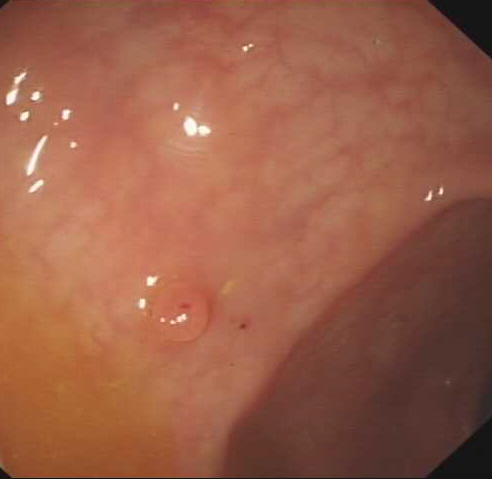others: (146, 280, 212, 343)
